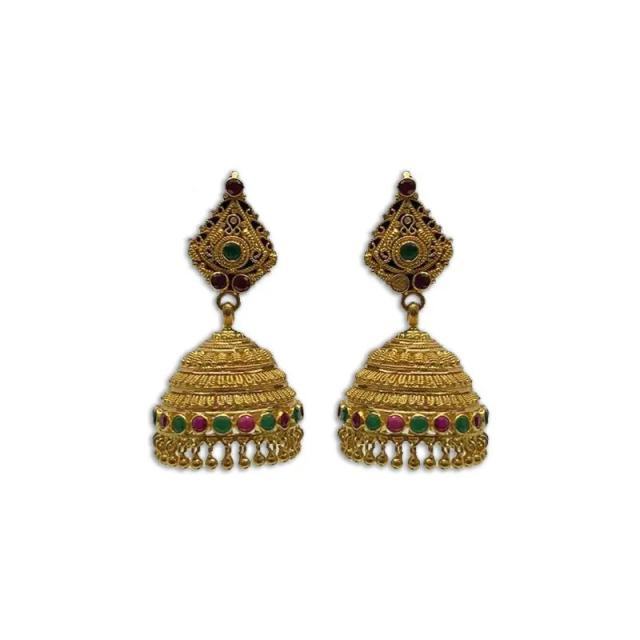missing gem: (391, 275, 408, 291)
